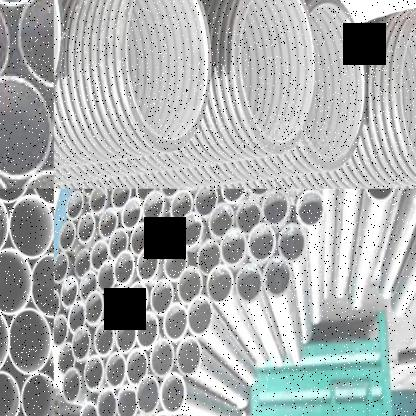pipe: (125, 0, 208, 143), (238, 0, 315, 146), (305, 0, 365, 163), (0, 74, 54, 181), (15, 0, 53, 90), (9, 195, 54, 259), (9, 308, 52, 374), (399, 15, 416, 175), (0, 247, 32, 315), (54, 0, 67, 118), (21, 372, 54, 416), (31, 254, 54, 316), (277, 223, 307, 264), (263, 256, 292, 298), (247, 223, 277, 263), (186, 294, 213, 337), (235, 263, 263, 304), (159, 372, 186, 414), (296, 189, 324, 229), (176, 336, 202, 377), (176, 266, 203, 305), (206, 265, 233, 304), (220, 228, 247, 267), (135, 374, 160, 416), (149, 338, 175, 378), (208, 202, 235, 240), (163, 302, 188, 342), (262, 189, 289, 225), (135, 311, 160, 349), (126, 348, 149, 387), (150, 279, 174, 316), (179, 212, 203, 249), (0, 371, 20, 415), (236, 199, 261, 234), (169, 189, 194, 224), (126, 281, 149, 319), (136, 246, 160, 282), (164, 246, 188, 282), (197, 240, 221, 276), (154, 219, 178, 254), (113, 250, 135, 287), (105, 352, 126, 390), (94, 320, 115, 358), (61, 367, 82, 404), (84, 355, 105, 392), (116, 317, 137, 354), (130, 222, 152, 257), (142, 191, 165, 224), (106, 287, 127, 323), (115, 383, 137, 416), (71, 326, 91, 362), (121, 197, 142, 231), (84, 291, 104, 326), (194, 189, 218, 218), (98, 207, 119, 239), (108, 228, 128, 261), (57, 342, 76, 376), (60, 275, 79, 309), (90, 239, 109, 272), (0, 306, 9, 375), (68, 301, 86, 334), (97, 260, 115, 293), (80, 270, 98, 302), (77, 213, 95, 244), (66, 190, 84, 221), (96, 387, 115, 416), (59, 220, 76, 252), (0, 192, 8, 256), (74, 249, 91, 279), (88, 189, 108, 214), (54, 252, 69, 283), (54, 314, 68, 347), (110, 189, 131, 209), (364, 189, 396, 202), (221, 189, 247, 204), (0, 0, 45, 7), (79, 401, 99, 416), (136, 189, 157, 201), (247, 189, 274, 197), (159, 189, 182, 198), (54, 289, 60, 322), (81, 189, 100, 197), (150, 411, 176, 416), (130, 413, 152, 416)
